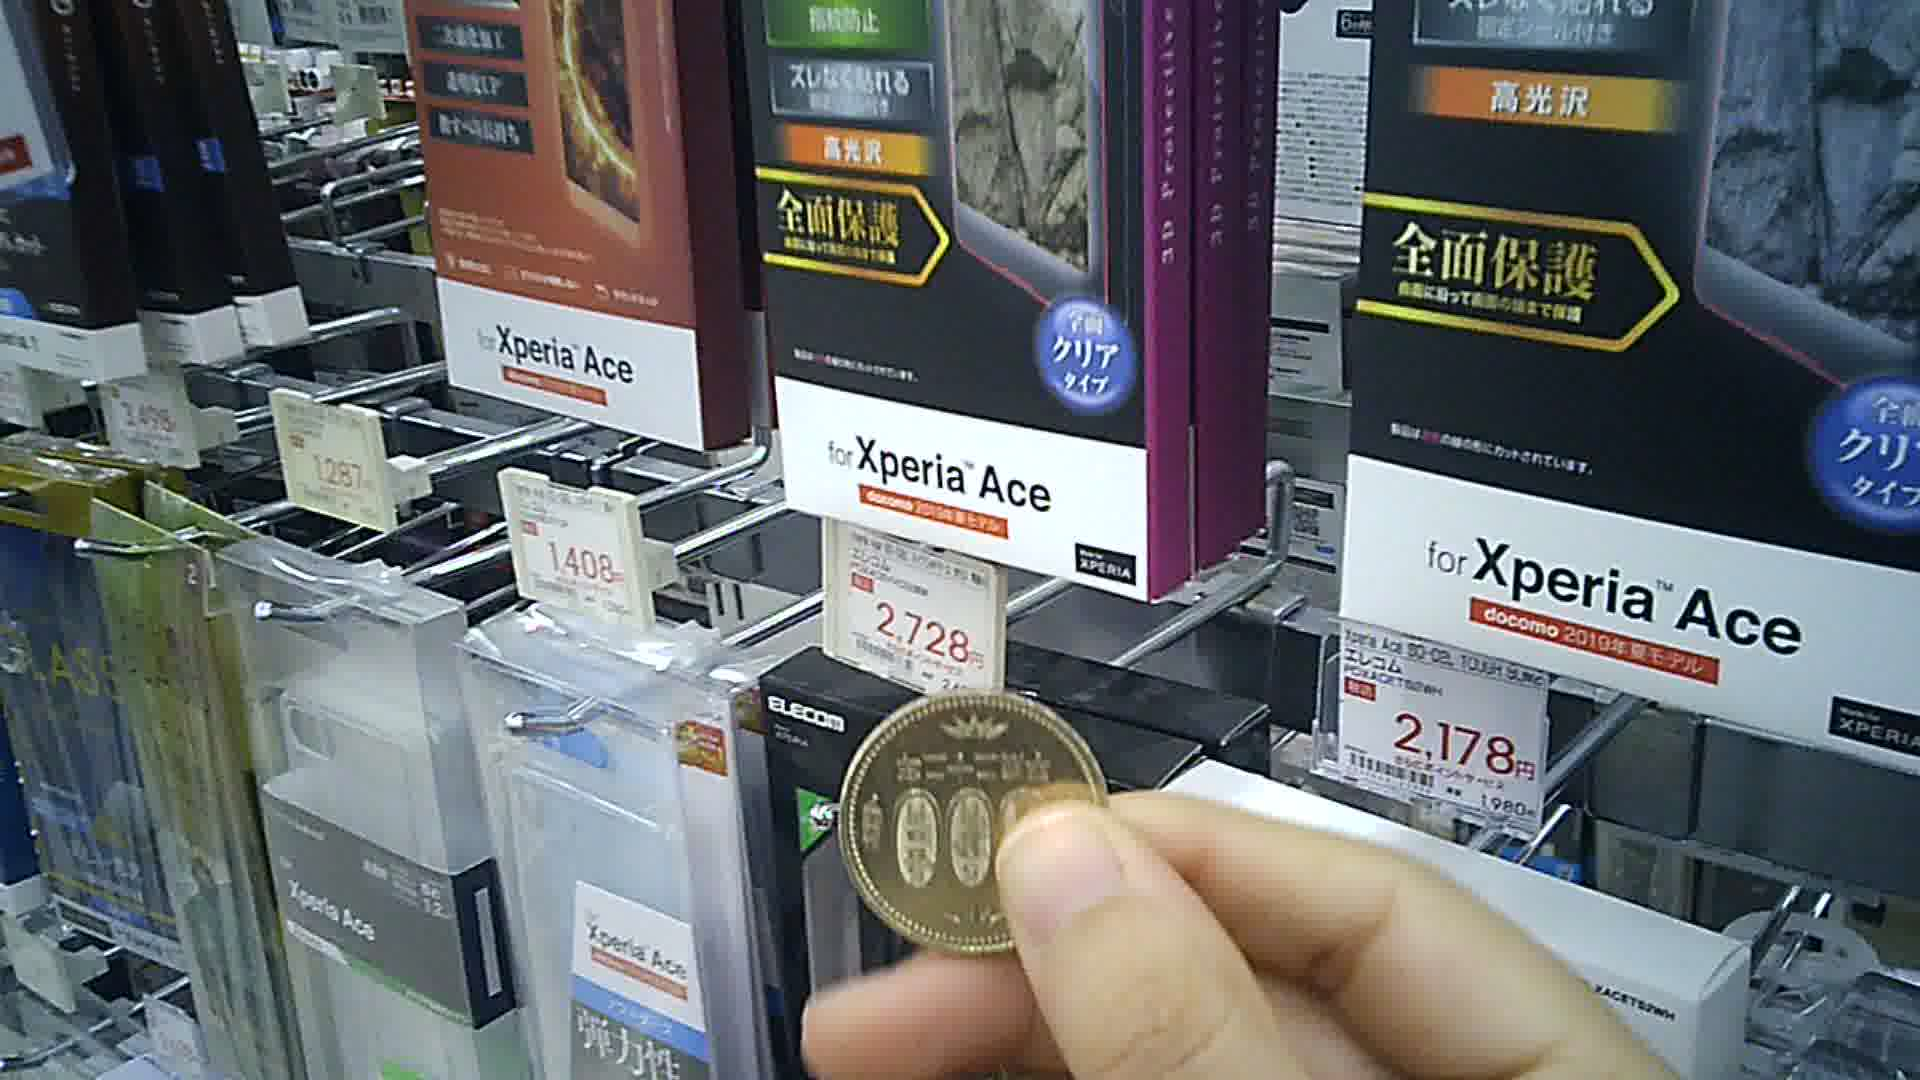500 Yen: (825, 687, 1124, 967)
